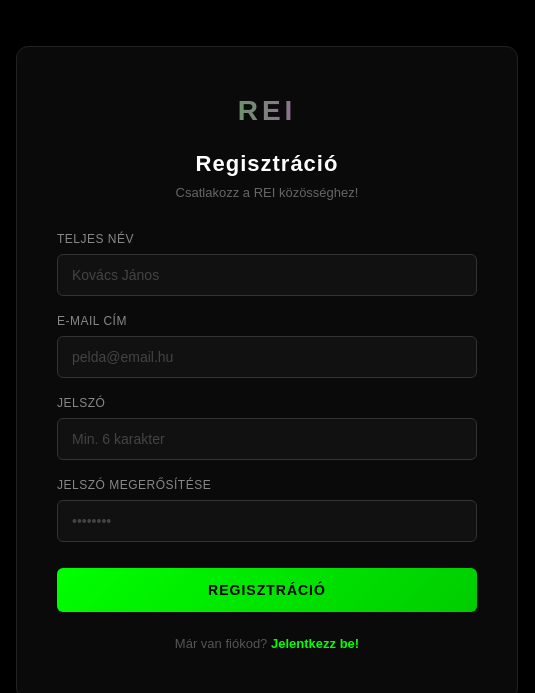
<Regisztracio /> › foglalt email-re 409 hibaüzenet jelenik meg
This screenshot has width=535, height=693.
Type "X" into the field with placeholder "Kovács János" at (267, 275), box [57,254,477,296]
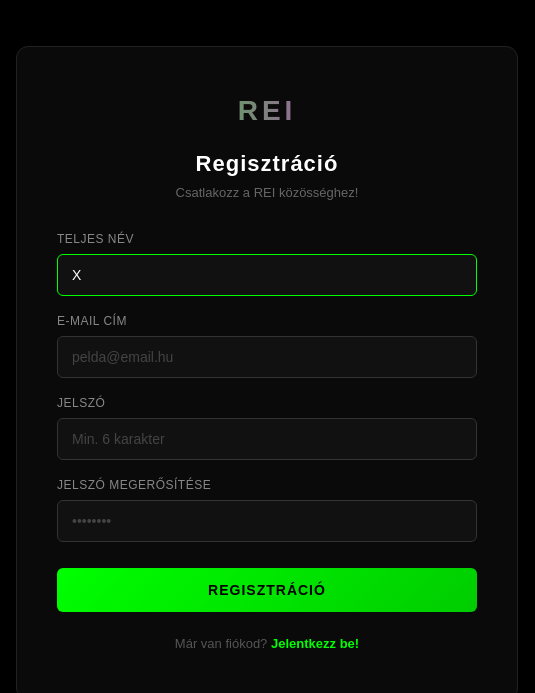
Type "foglalt@pelda.hu" into the field with placeholder "pelda@email.hu" at (267, 357), box [57,336,477,378]
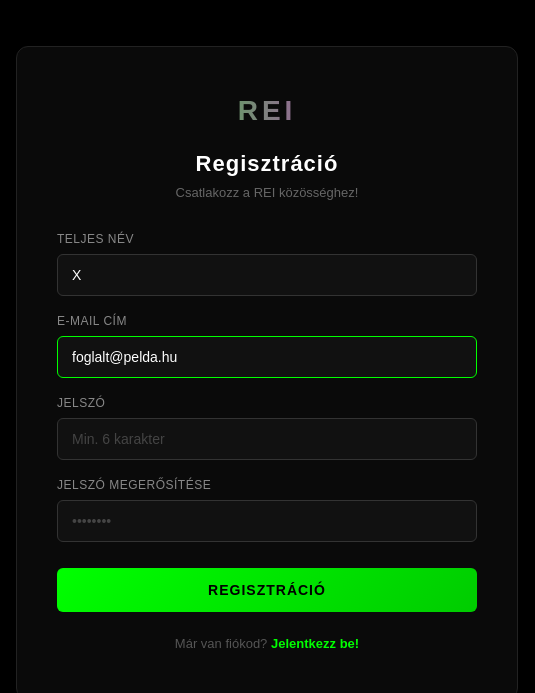
Type "titok123" into the password field with placeholder "Min. 6 karakter" at (267, 439), box [57,418,477,460]
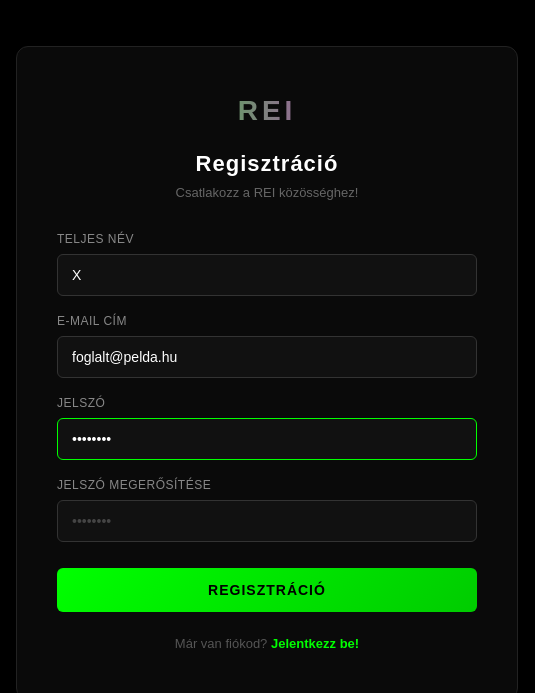
Type "titok123" into the password field with placeholder "••••••••" at (267, 521), box [57,500,477,542]
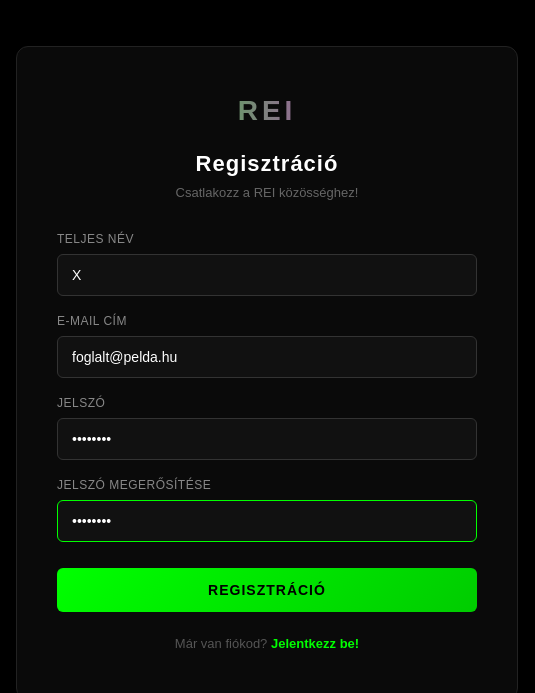
Click the button "Regisztráció" at (267, 590), box [57,568,477,612]
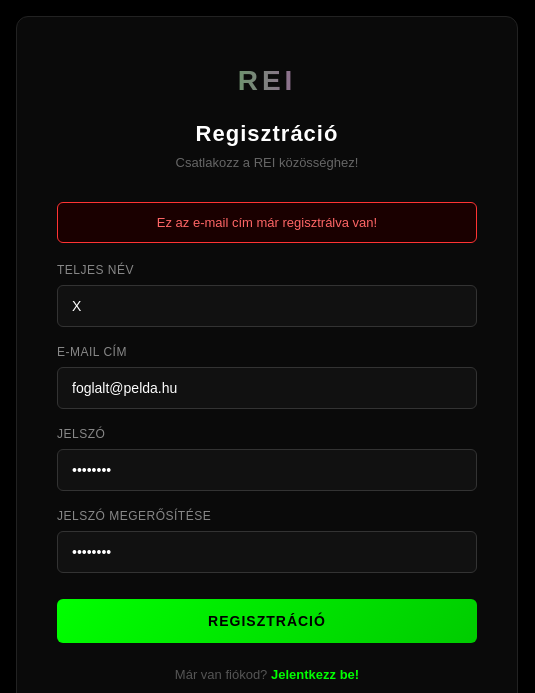
Check: the text "Ez az e-mail cím már regisztrálva van!" is shown, box [57,202,477,242]
